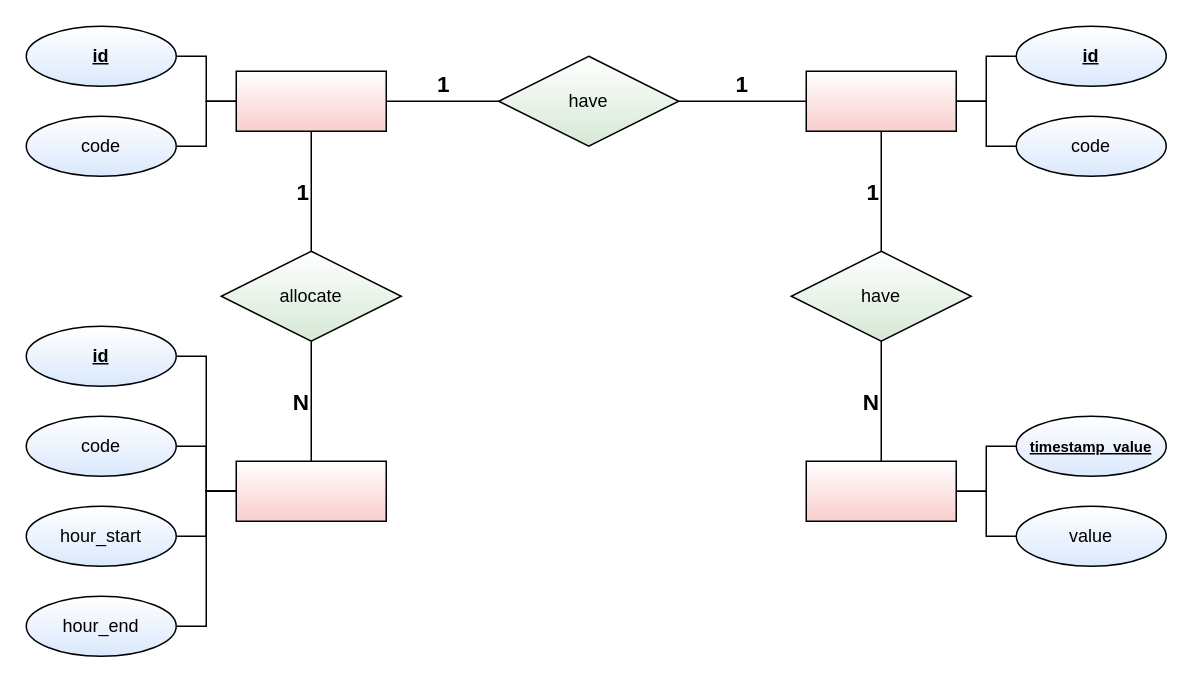
Image size: 1193x683. Some labels were removed from this diagram. The centre of each missing label's shape, as x and y in pixels:
"Counters" goes at (880,100).
"Machines" goes at (310,100).
"Shifts" goes at (310,490).
"Values" goes at (880,490).
